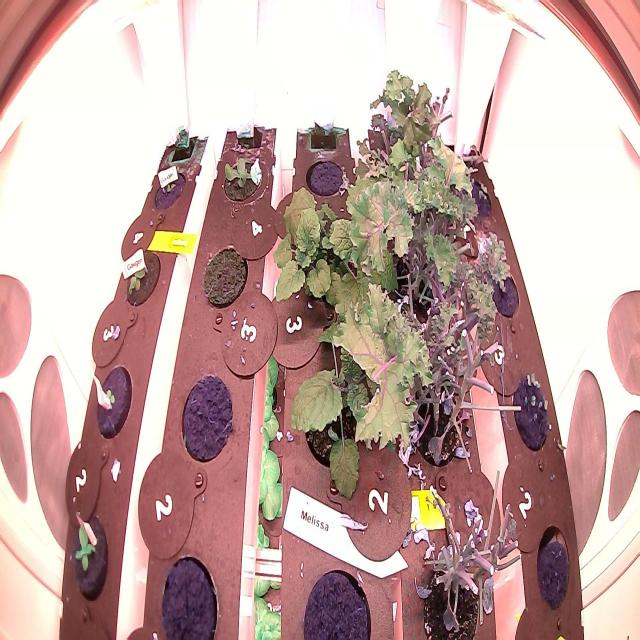germination: (503, 361, 562, 459), (89, 352, 142, 445), (116, 244, 162, 309), (456, 162, 495, 224), (150, 160, 188, 216)
pod: (154, 538, 221, 640), (299, 552, 375, 640), (178, 368, 236, 473), (197, 232, 255, 315), (532, 520, 574, 617), (301, 150, 349, 206), (488, 252, 524, 322)
young: (68, 507, 114, 605), (218, 147, 270, 218)
